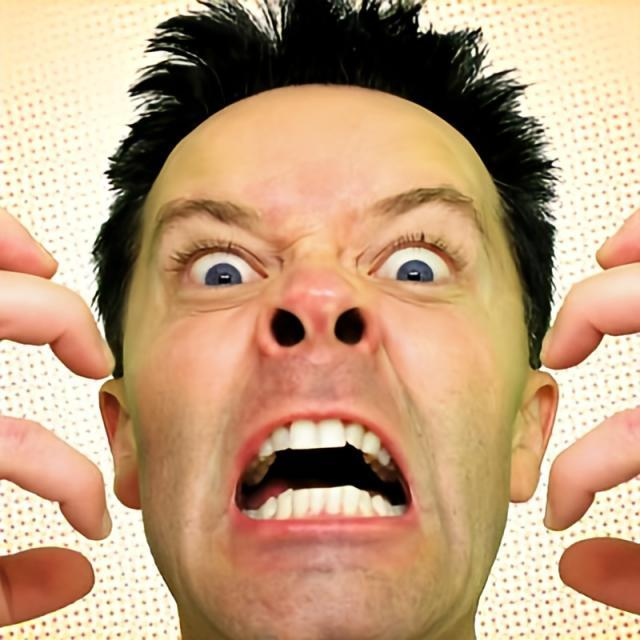anger: (124, 79, 513, 640)
